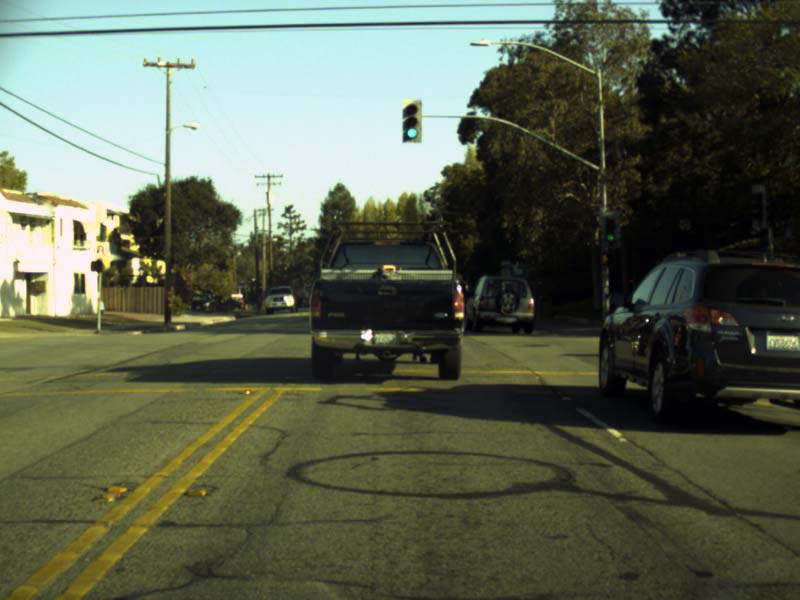Green: (401, 100, 422, 142), (598, 213, 620, 247)
